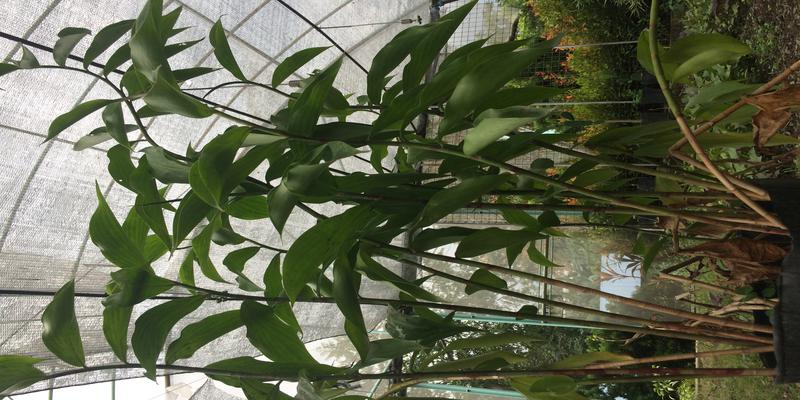Insulin: (97, 105, 716, 383)
